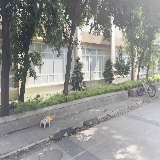fire: (45, 112, 53, 121)
